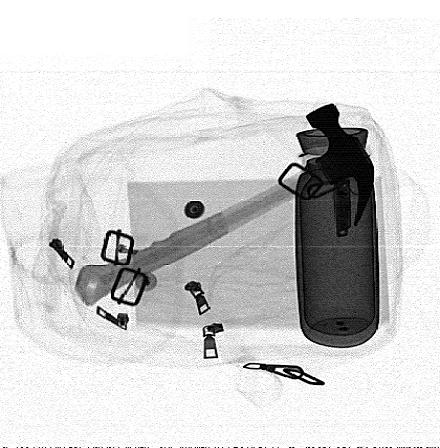Hammer: (74, 102, 375, 307)
